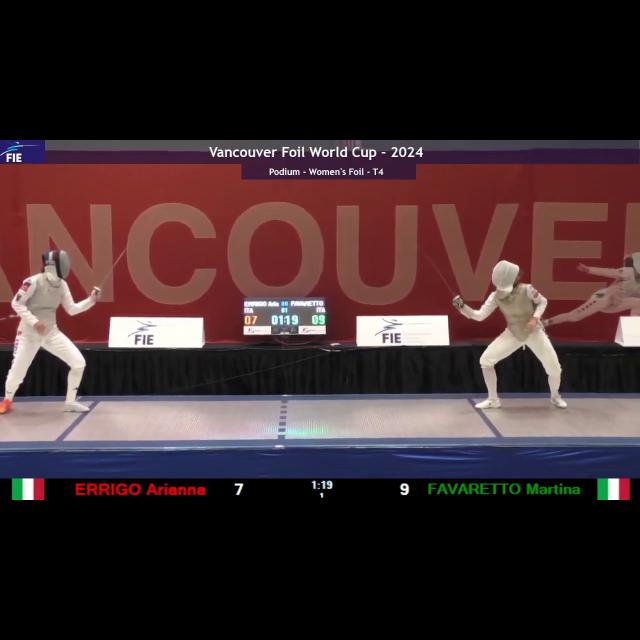blade: (411, 245, 463, 308), (90, 236, 136, 296)
